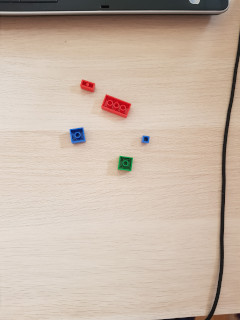1x1 blue: (141, 135, 151, 144)
1x2 red: (79, 78, 95, 93)
2x2 blue: (68, 127, 87, 145)
2x2 green: (116, 155, 133, 173)
2x4 red: (102, 93, 132, 120)
